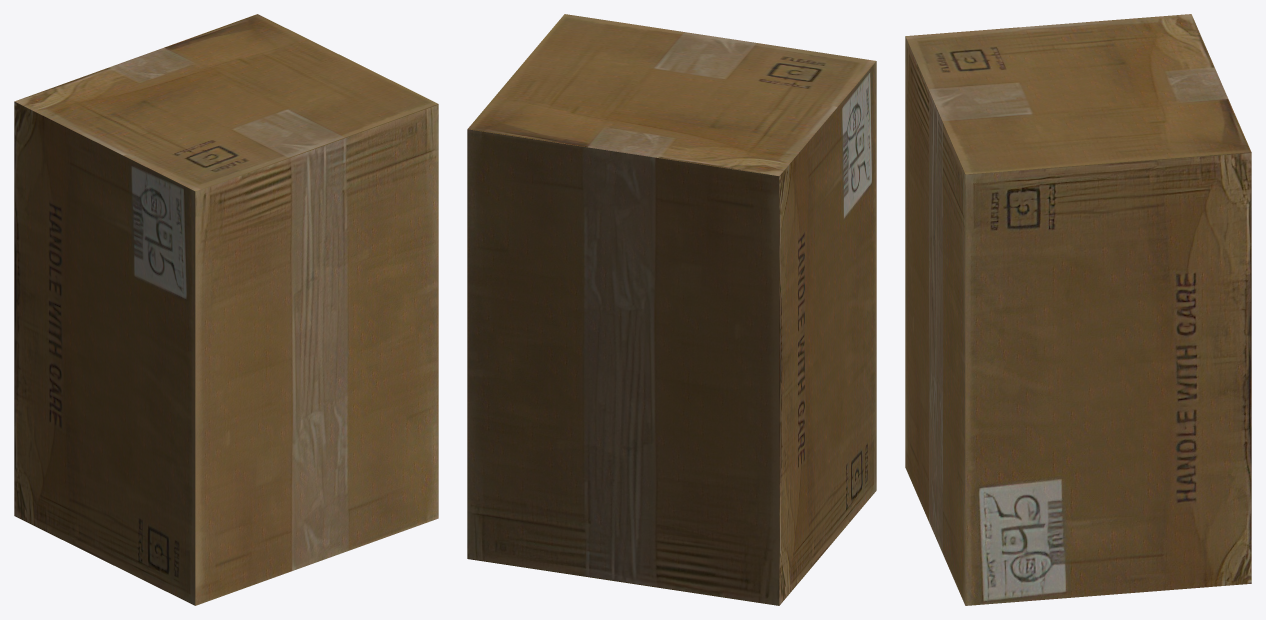
3 views of the same model, side by side, from view 1: azimuth 30°, elevation 25°; view 2: azimuth 150°, elevation 25°; view 3: azimuth 270°, elevation 25° (orthographic). The views are drawn at different scales.
Parts seen in each view (by area): view 1: x5; view 2: x5; view 3: x5.
Boxes of the visible parts, x1,y1,x2,y2 form: x5: (14,14,438,605); x5: (467,14,876,605); x5: (905,14,1251,605).
Bounding box in the file's own units: 0.3511 × 0.4404 × 0.3201.
1 material, 1 textured.
